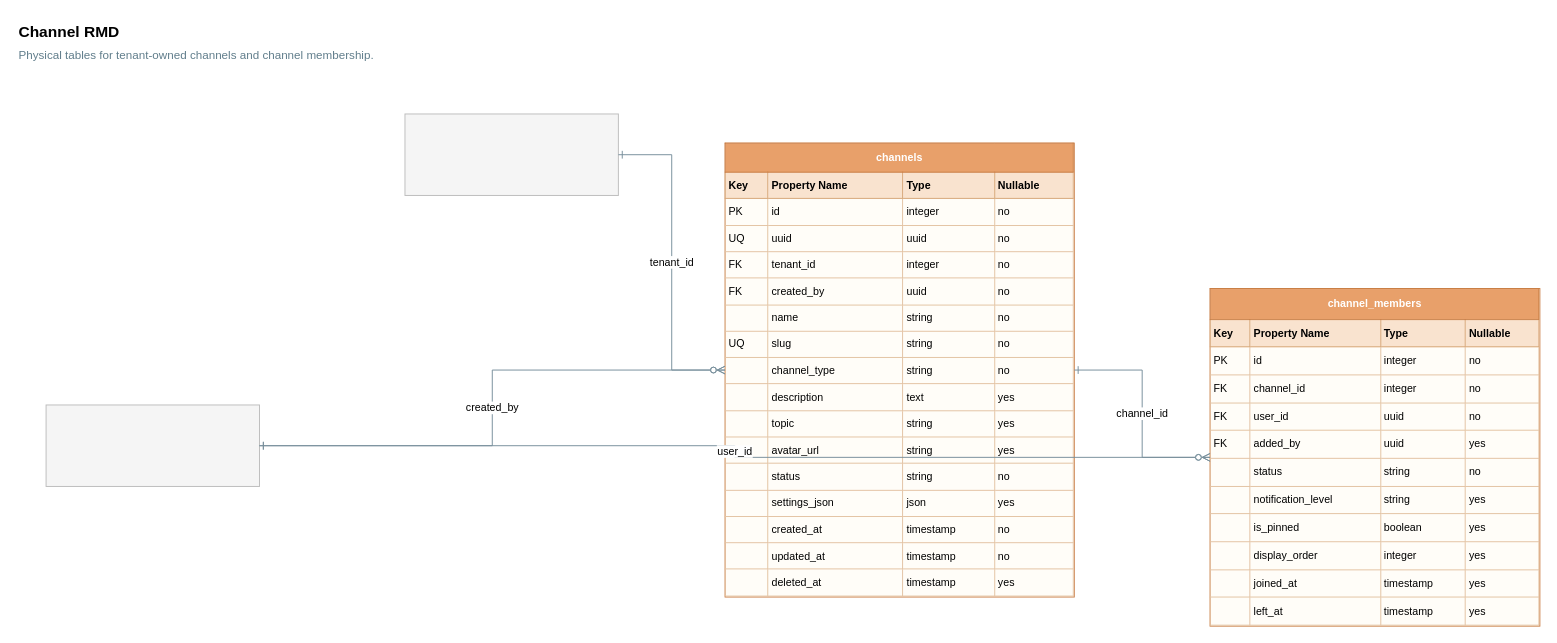
The diagram is 1557 pixels wide and 643 high, and some of its shapes have lost their labels. The box of each missing label's shape, as (x1, y1, x2, y2) in pixels:
tenants Key Property Name Type Nullable PK id integer no: (404, 113, 618, 195)
users Key Property Name Type Nullable PK id uuid no: (45, 404, 259, 486)
